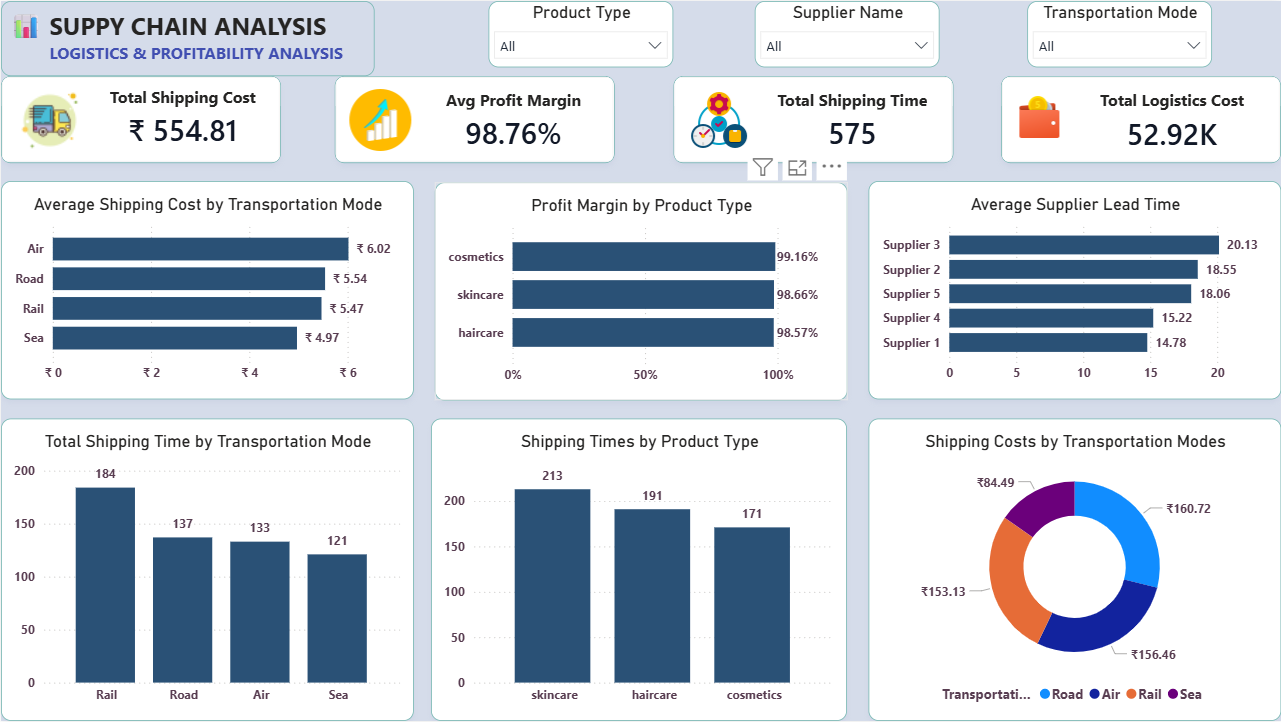

The page's visual inventory and layout, read from the dashboard file:
{"tool":"powerbi","page":{"name":"Logistics & Profitability Analysis ","canvas":[1280,720],"ordinal":2},"visuals":[{"type":"cardVisual","fields":{"Data":["supply_chain_clean_data.Total Shipping Cost"]},"box":[0,75,280,87.5],"z":0},{"type":"cardVisual","fields":{"Data":["supply_chain_clean_data.Avg Profit Margin"]},"box":[333.8,75,280,87.5],"z":1000},{"type":"cardVisual","fields":{"Data":["Sum(supply_chain_clean_data.Shipping_times)"]},"box":[672.5,75,280,87.5],"z":2000},{"type":"cardVisual","fields":{"Data":["supply_chain_clean_data.Total Logistics Cost"]},"box":[1000,75,280,87.5],"z":3000},{"type":"clusteredBarChart","title":"Average Shipping Cost by Transportation Mode","fields":{"Category":["supply_chain_clean_data.Transportation_modes"],"Y":["supply_chain_clean_data.Avg Shipping Cost"]},"box":[0,180,412.5,218.8],"z":4000},{"type":"clusteredBarChart","title":"Profit Margin by Product Type","fields":{"Category":["supply_chain_clean_data.Product_type"],"Y":["supply_chain_clean_data.Avg Profit Margin"]},"box":[433.8,181.2,412.5,218.8],"z":5000},{"type":"clusteredColumnChart","title":"Total Shipping Time by Transportation Mode","fields":{"Category":["supply_chain_clean_data.Transportation_modes"],"Y":["Sum(supply_chain_clean_data.Shipping_times)"]},"box":[0,417.5,412.5,302.5],"z":6000},{"type":"donutChart","title":"Shipping Costs by Transportation Modes","fields":{"Category":["supply_chain_clean_data.Transportation_modes"],"Y":["supply_chain_clean_data.Rounded Shipping Cost"]},"box":[867.5,417.5,412.5,302.5],"z":7000},{"type":"slicer","title":"Product Type","fields":{"Values":["supply_chain_clean_data.Product_type"]},"box":[487.5,0,185,66.2],"z":8000},{"type":"slicer","title":"Supplier Name ","fields":{"Values":["supply_chain_clean_data.Supplier_name"]},"box":[753.8,0,185,66.2],"z":9000},{"type":"slicer","title":"Transportation Mode ","fields":{"Values":["supply_chain_clean_data.Transportation_modes"]},"box":[1026.2,0,185,66.2],"z":10000},{"type":"clusteredBarChart","title":"Average Supplier Lead Time","fields":{"Category":["supply_chain_clean_data.Supplier_name"],"Y":["Avg(supply_chain_clean_data.Lead_time)"]},"box":[867.5,180,412.5,218.8],"z":11000},{"type":"clusteredColumnChart","title":"Shipping Times by Product Type","fields":{"Category":["supply_chain_clean_data.Product_type"],"Y":["Sum(supply_chain_clean_data.Shipping_times)"]},"box":[430,417.5,416.2,302.5],"z":12000},{"type":"textbox","box":[0,0,373.8,75],"z":13000}]}

Visuals, with their boxes in screenshot pixels (x1, y1, x2, y2), scaled from the page's 1280x720 canvas onto the 1281x722 screenshot:
cardVisual - supply_chain_clean_data.Total Shipping Cost: 0 75 280 163
cardVisual - supply_chain_clean_data.Avg Profit Margin: 334 75 614 163
cardVisual - Sum(supply_chain_clean_data.Shipping_times): 673 75 953 163
cardVisual - supply_chain_clean_data.Total Logistics Cost: 1001 75 1280 163
"Average Shipping Cost by Transportation Mode" clusteredBarChart: 0 180 413 400
"Profit Margin by Product Type" clusteredBarChart: 434 182 847 401
"Total Shipping Time by Transportation Mode" clusteredColumnChart: 0 419 413 721
"Shipping Costs by Transportation Modes" donutChart: 868 419 1280 721
"Product Type" slicer: 488 0 673 66
"Supplier Name " slicer: 754 0 940 66
"Transportation Mode " slicer: 1027 0 1212 66
"Average Supplier Lead Time" clusteredBarChart: 868 180 1280 400
"Shipping Times by Product Type" clusteredColumnChart: 430 419 847 721
textbox: 0 0 374 75
